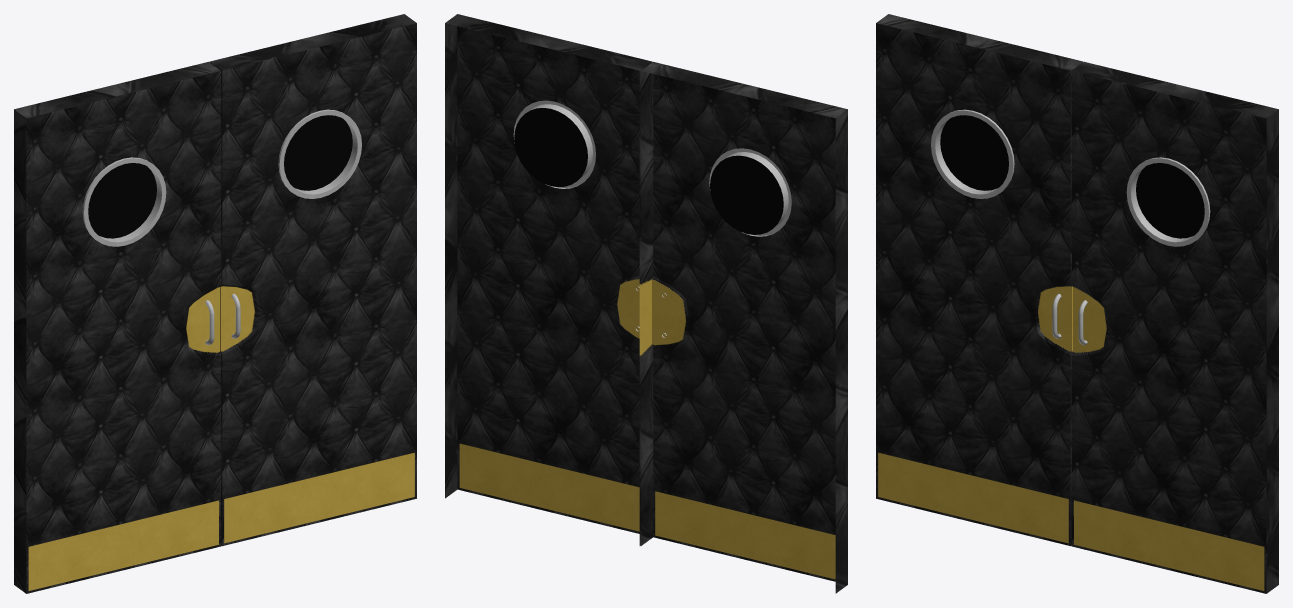
The picture shows the model from 3 angles, left to right: view 1: azimuth 30°, elevation 25°; view 2: azimuth 150°, elevation 25°; view 3: azimuth 330°, elevation 25°; orthographic projection.
Visible parts, largest first — view 1: Door_low__0; view 2: Door_low__0; view 3: Door_low__0.
Boxes of the visible parts, x1=… form: Door_low__0: x1=14, y1=14, x2=416, y2=593; Door_low__0: x1=445, y1=14, x2=847, y2=593; Door_low__0: x1=876, y1=14, x2=1278, y2=593.
Size of the model in its own units: 1.88 by 2.18 by 0.1422.
1 material, 1 textured.
